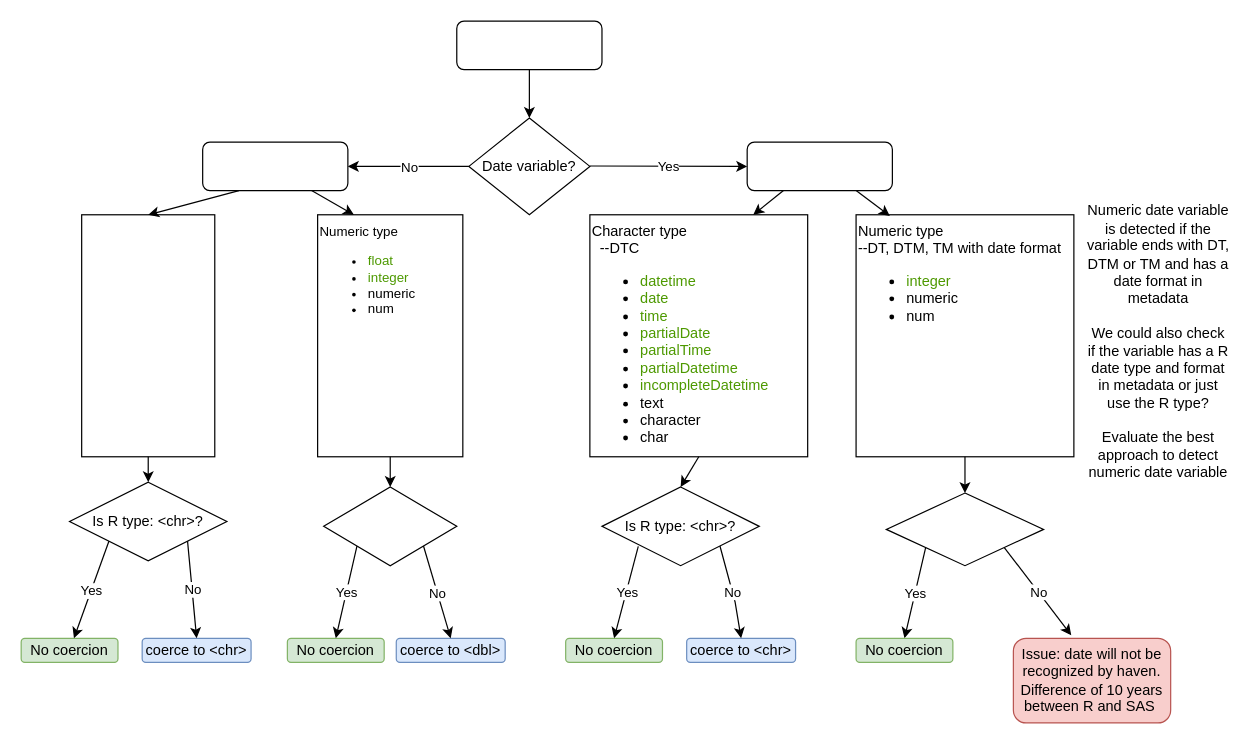
Some shapes in this 1252 by 744 pixel diagram are drawn without their labels. Each missing label, with the centre of its shape:
"Character type text character char" belongs at point (147, 335).
"Date variable metadata type" belongs at point (819, 166).
"Is R type: <date>, <dttm>, <time>?" belongs at point (964, 529).
"Is R type: <dbl>" belongs at point (389, 526).
"Other variable Metadata type" belongs at point (274, 166).
"Variables Type" belongs at point (529, 45).
